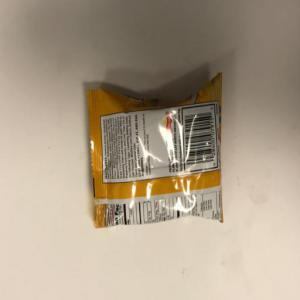Trash: (85, 71, 225, 230)
